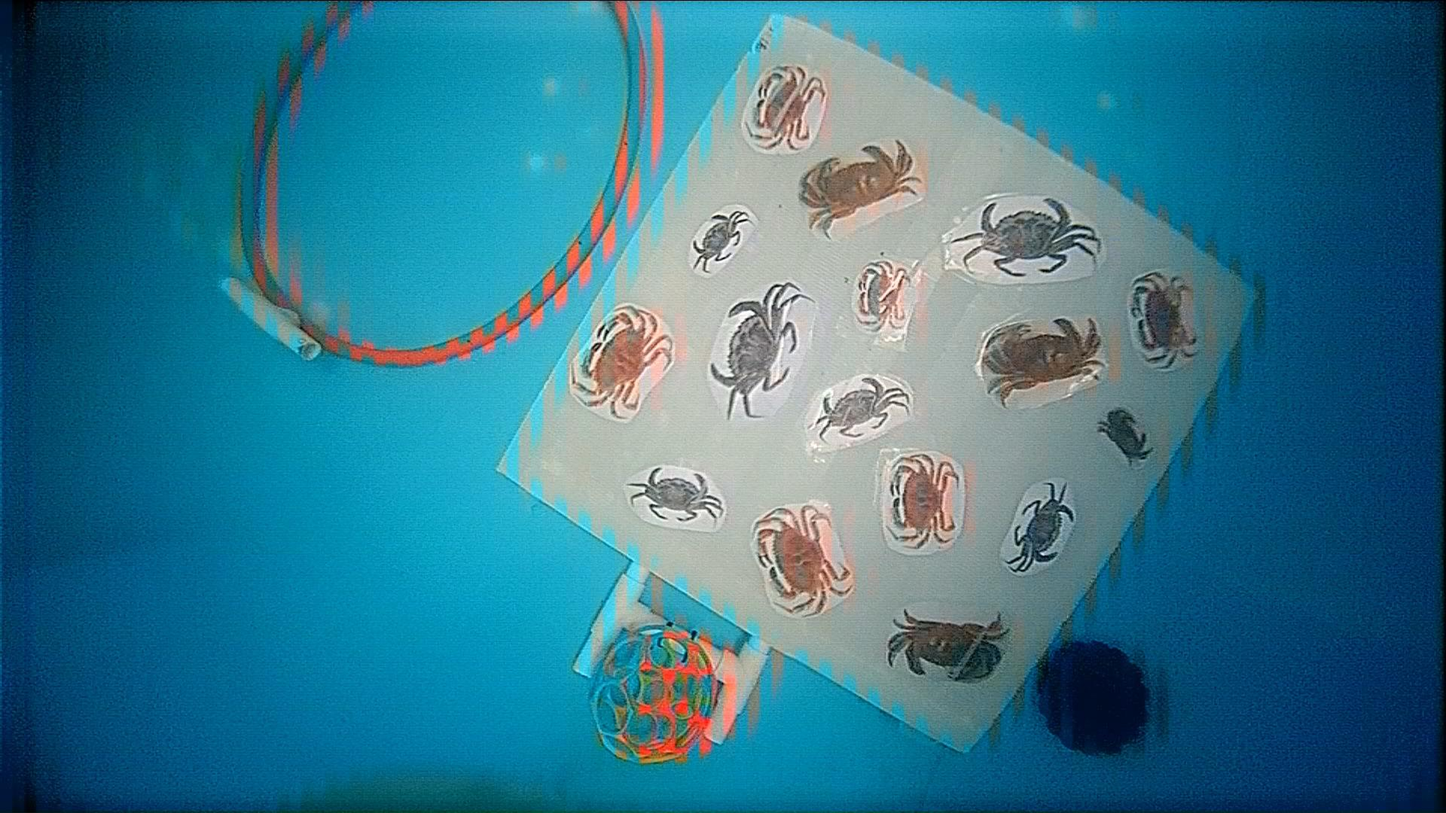GreenCrab: (710, 281, 813, 419), (951, 199, 1099, 277), (1005, 482, 1074, 571), (814, 376, 907, 440), (627, 467, 722, 519), (694, 211, 748, 273)
